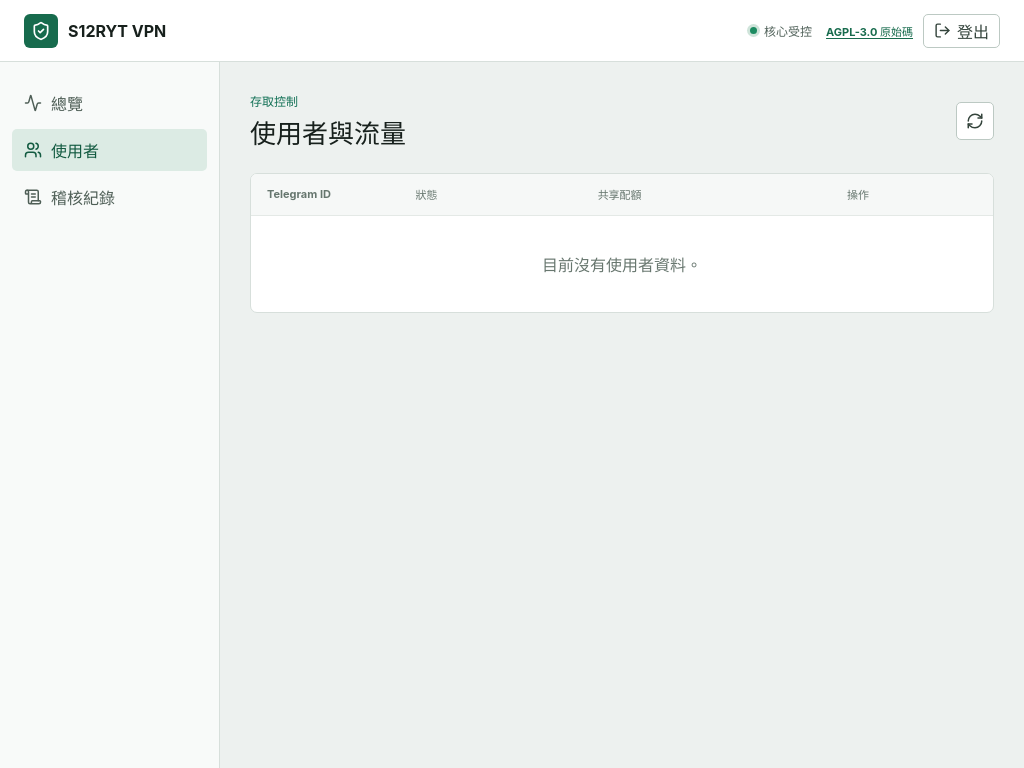
Test: 管理面板登入 › 登入後顯示營運總覽與未完成設定警示
Click the button "總覽".
click(110, 103)  # box [12,82,207,124]
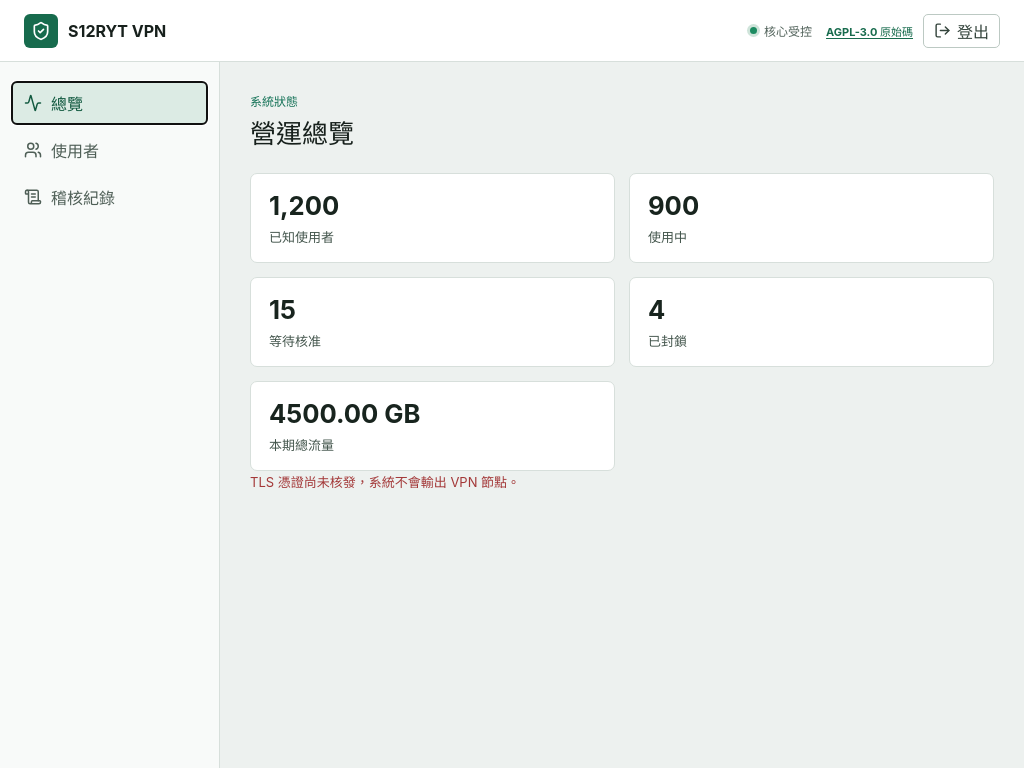
Expected: the heading "營運總覽" is shown, [250,118,354,150]
Expected: the text "1,200" is shown, [269,190,339,220]
Expected: the text "900" is shown, [648,190,699,220]
